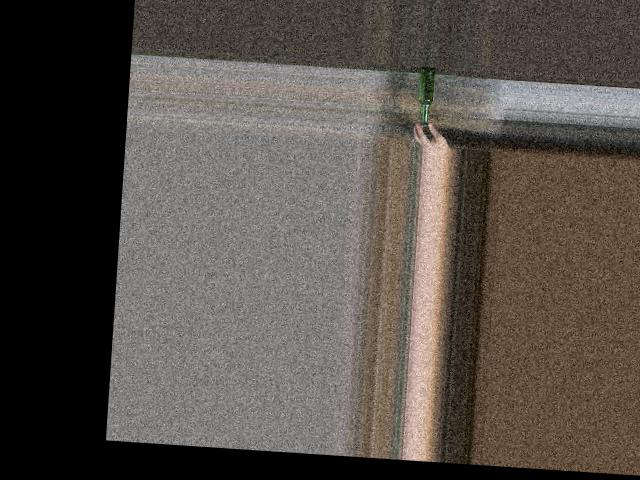beer: (416, 66, 435, 126)
